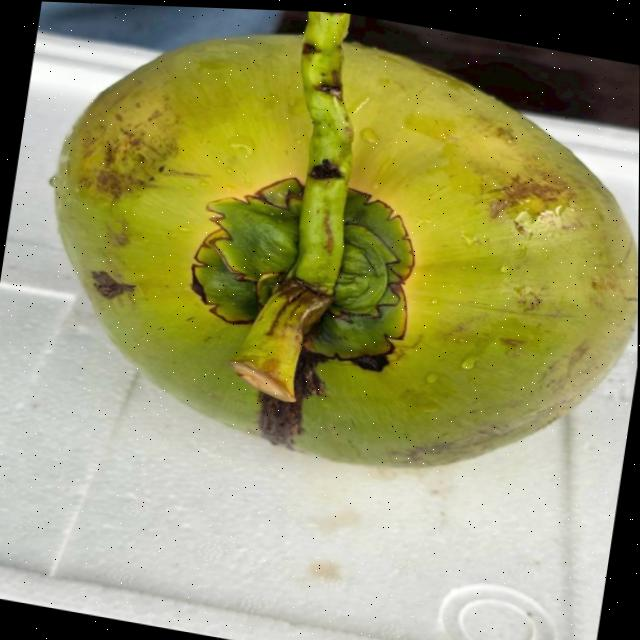coco_1.5: (109, 119, 499, 416)
